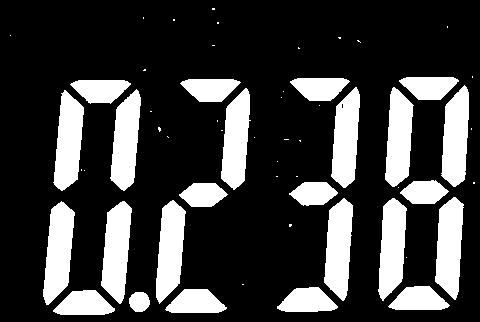0: (37, 77, 142, 316)
2: (153, 78, 255, 317)
3: (272, 77, 364, 317)
8: (378, 70, 472, 312)
dot: (127, 289, 152, 314)
